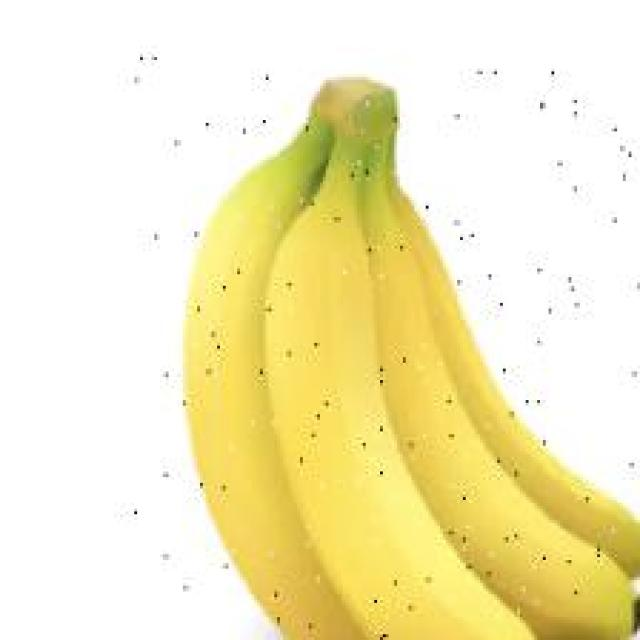banana: (152, 40, 640, 640)
